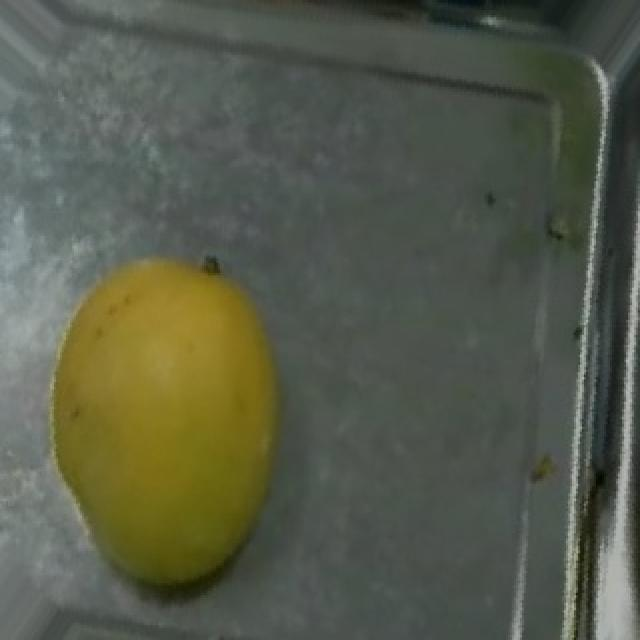fruit: (18, 236, 338, 615)
